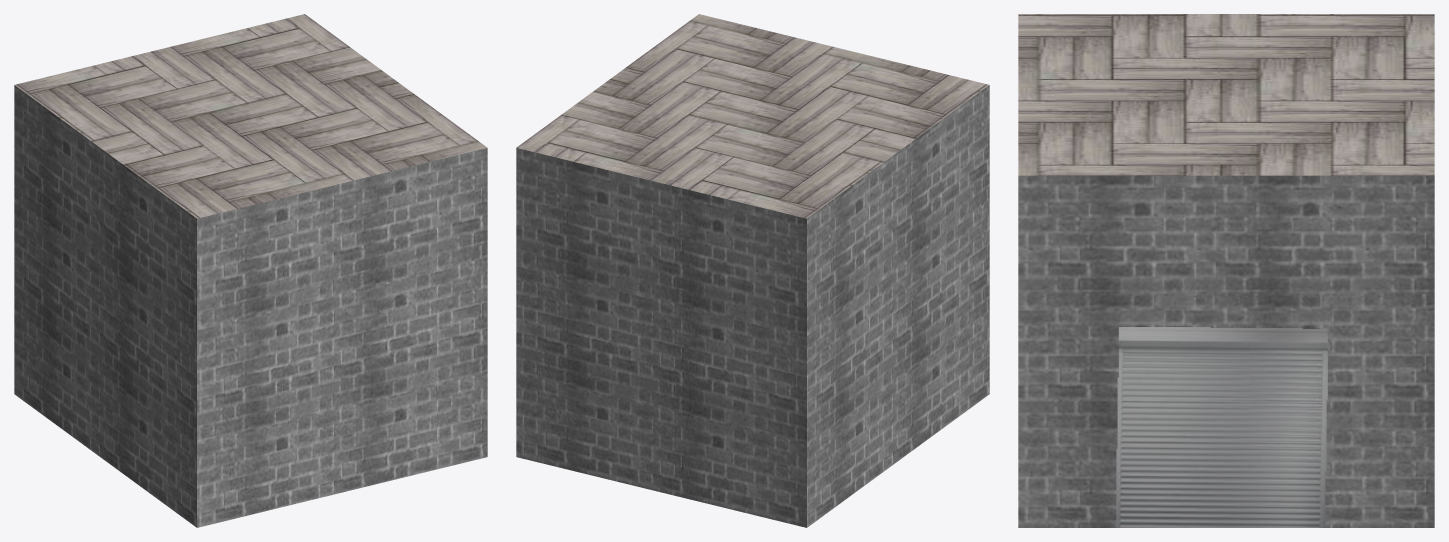
The model's file is scene_floor.glb.
3 renders of one model, left to right at view 1: azimuth 30°, elevation 25°; view 2: azimuth 150°, elevation 25°; view 3: azimuth 270°, elevation 25°, orthographic. The views are drawn at different scales.
Visible parts, largest first — view 1: Cube.001; view 2: Cube.001; view 3: Cube.001.
Part boxes in pixels (x1,y1,x2,y2): Cube.001: (14,14,487,527); Cube.001: (516,14,989,527); Cube.001: (1018,14,1434,527).
Bounding box in the file's own units: 37.2 × 38.09 × 40.53.
Materials: 2 (2 with a texture image).
